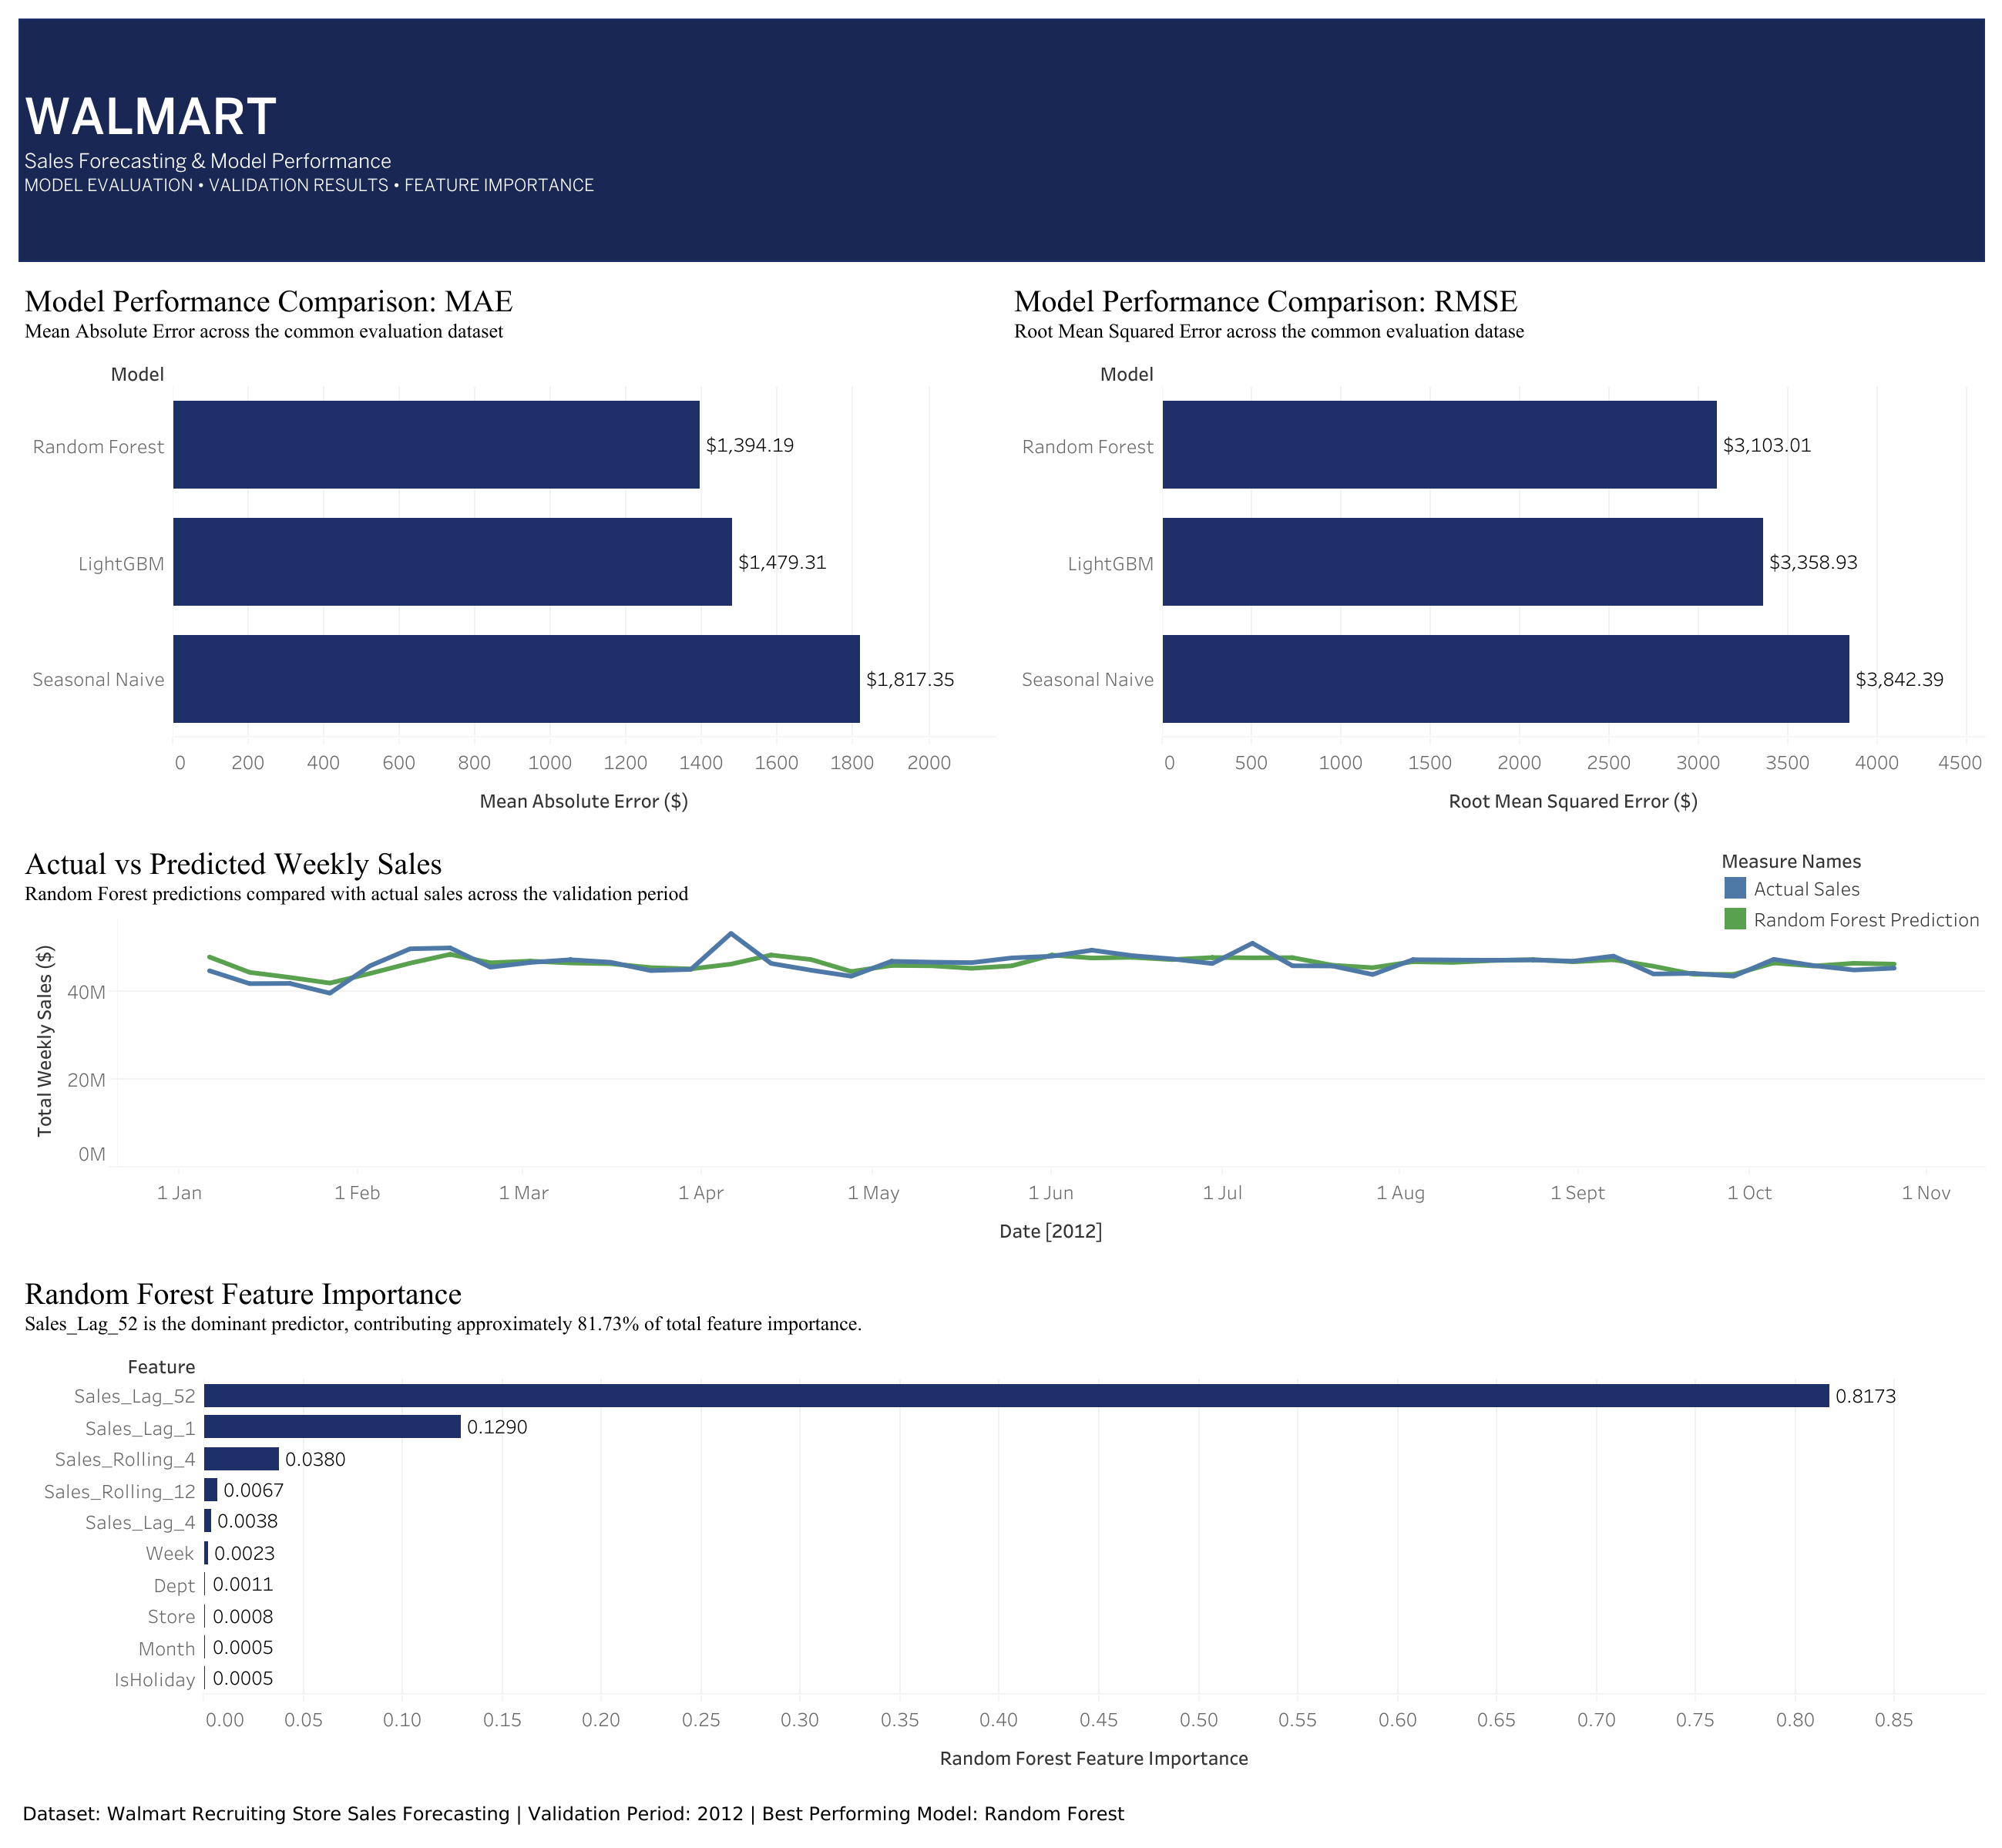

The dashboard page shown, as its layout file describes it:
{"tool":"tableau","page":{"name":"Dashboard 3 - Sales Forecasting","canvas":[1300,1200],"ordinal":2},"visuals":[{"type":"text","box":[8,8,1284,166.4]},{"type":"worksheet","title":"Chart - Model MAE Comparison","mark":"Bar","rows":["Model"],"cols":["MAE"],"box":[8,174.4,642,364.1]},{"type":"worksheet","title":"Chart - Model RMSE Comparison","mark":"Bar","rows":["Model"],"cols":["RMSE"],"box":[650,174.4,642,364.1]},{"type":"worksheet","title":"Chart - Actual vs Predicted Sales","mark":"Line","cols":["Date"],"box":[8,538.6,1284,279.2]},{"type":"legend","title":"Chart - Actual vs Predicted Sales","param":"[federated.0xru63l0cx9nco1et4srb1fc6fs5].[:Measure Names]","box":[1116.2,546.7,178.6,88.3]},{"type":"worksheet","title":"Chart - Random Forest Feature Importance","mark":"Bar","rows":["Feature"],"cols":["Importance"],"box":[8,817.7,1284,342.3]},{"type":"text","box":[8,1160,1284,32]}]}

Visuals, with their boxes in screenshot pixels (x1, y1, x2, y2), scaled from the page's 1300x1200 canvas onto the 2002x1848 screenshot:
text: 12 12 1990 269
"Chart - Model MAE Comparison" worksheet (Bar marks): 12 269 1001 829
"Chart - Model RMSE Comparison" worksheet (Bar marks): 1001 269 1990 829
"Chart - Actual vs Predicted Sales" worksheet (Line marks): 12 829 1990 1259
"Chart - Actual vs Predicted Sales" legend: 1719 842 1994 978
"Chart - Random Forest Feature Importance" worksheet (Bar marks): 12 1259 1990 1786
text: 12 1786 1990 1836
